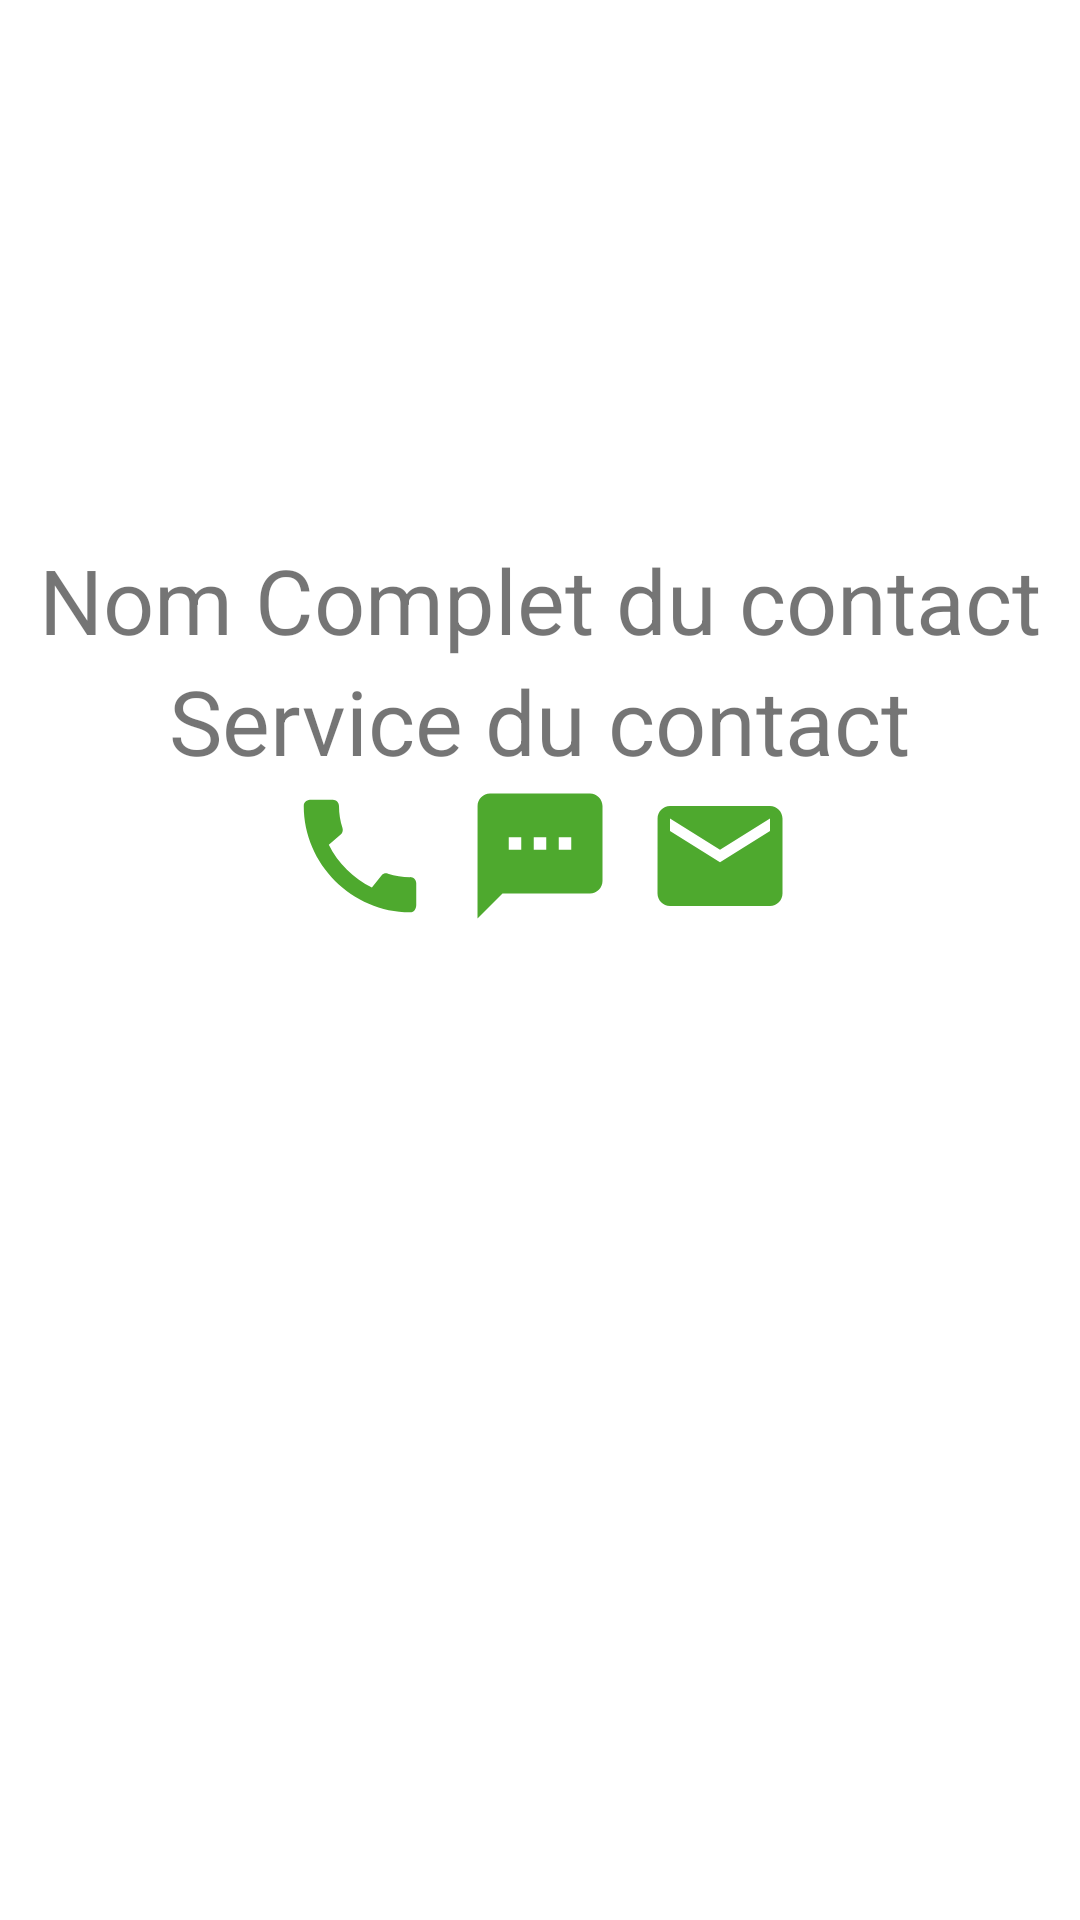

Where to tap for icons on this 1080 x 1920 app screen, as (x=x, y=y):
call: (x=360, y=856)
email: (x=720, y=856)
